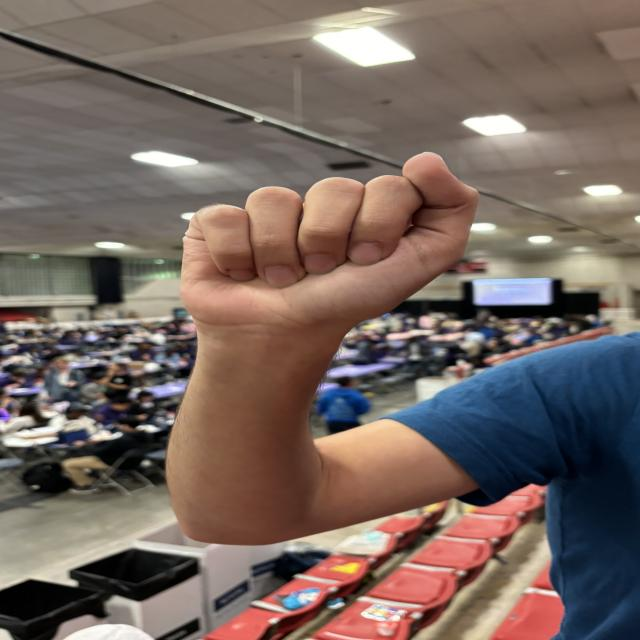A: (144, 146, 510, 334)
